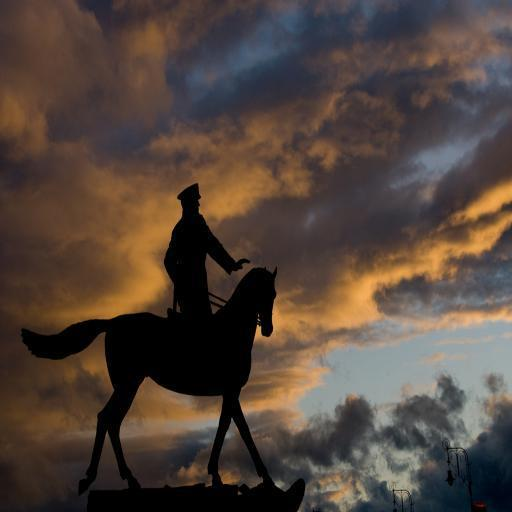horse: (21, 264, 276, 498)
